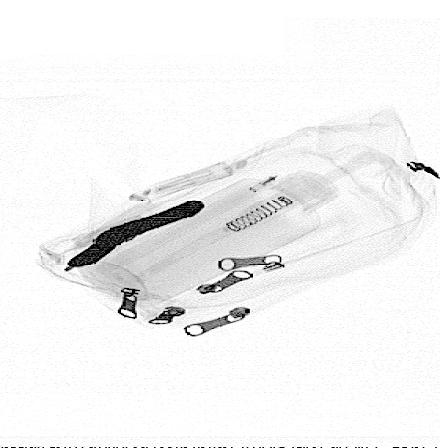Gun: (66, 200, 207, 268)
